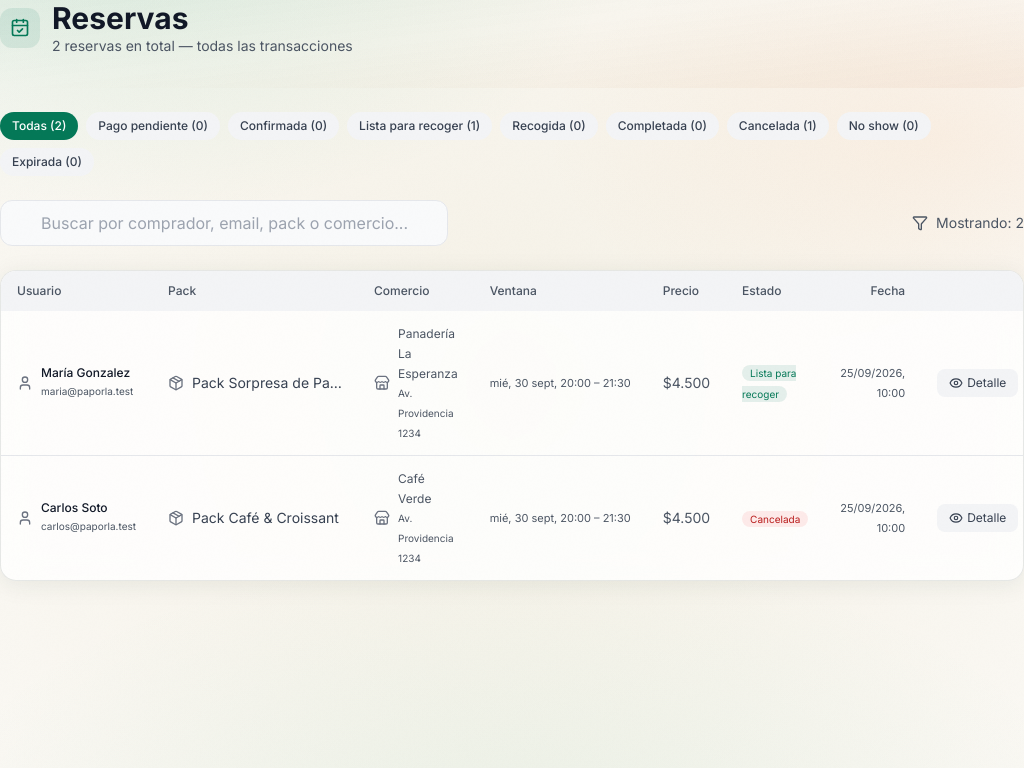
Test: AdminReservationsPage (ADMIN-1) › la búsqueda por comercio reduce a "X de Y reservas"
Step 1. Type "café" into the field with placeholder "Buscar por comprador, email, pack o comercio..." → (224, 223), box [0,200,448,246]
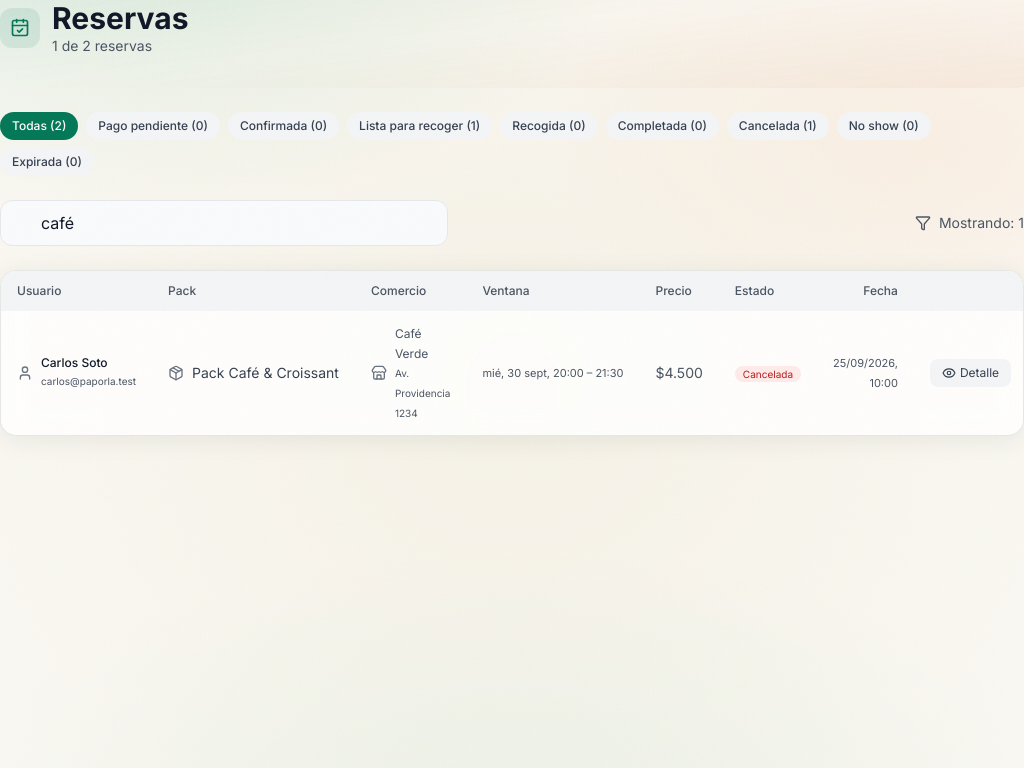
Expected: the text "Carlos Soto" is shown, [41,355,108,370]
Result: the text "1 de 2 reservas" is shown at [52,37,152,54]
Result: the text "María Gonzalez" is gone
